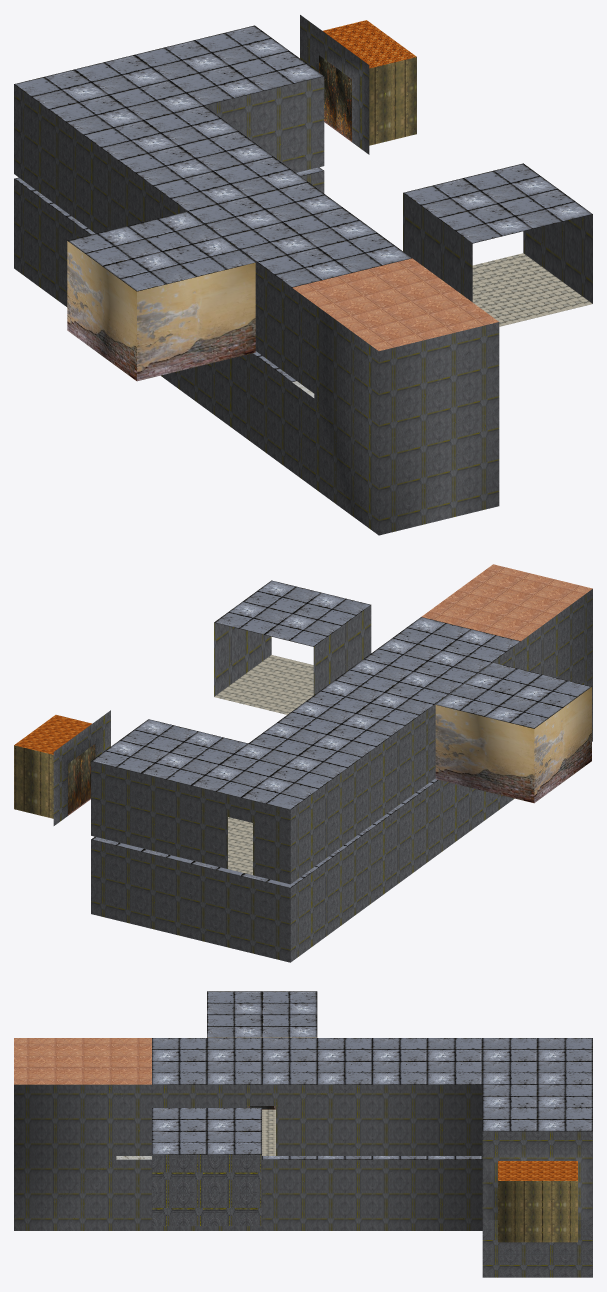
File: LabirintEditor.fbx
The picture shows the model from 3 angles, top to bottom: view 1: azimuth 30°, elevation 25°; view 2: azimuth 150°, elevation 25°; view 3: azimuth 270°, elevation 25°; orthographic projection. The views are drawn at different scales.
Visible parts, largest first — view 1: Wals.6, Up, Wals, Wals.5, Up.3.2, Up.7, Up.3, Up.6, Wals.2, Wals.4, Wals.3, Kor_Pryam.Min (+6 smaller); view 2: Up, Wals.3, Wals, Wals.5, Up.3.2, DopWall2.2, Up.7, DopWall2, Up.3, Up.6, Wals.2, Wals.4 (+10 smaller); view 3: Wals.6, Up, Up.3.2, Wals.2.2, Wals.4, Wals, Wals.3, Wals.2, Up.7, Up.6, Up.3, Lift (+7 smaller).
Boxes of the visible parts, x1,y1,x2,y2 form: Wals.6: (292,288,499,535); Up: (14,25,323,185); Wals: (14,76,324,233); Wals.5: (67,241,255,381); Up.3.2: (153,156,411,287); Up.7: (292,258,498,350); Up.3: (403,163,592,243); Up.6: (67,212,255,291); Wals.2: (403,193,592,303); Wals.4: (161,353,291,471); Wals.3: (14,171,324,306); Kor_Pryam.Min: (472,253,592,326); Up: (91,701,405,809); Wals.3: (91,804,405,962); Wals: (91,726,405,883); Wals.5: (435,687,591,803); Up.3.2: (306,617,520,725); DopWall2.2: (190,864,290,962); Up.7: (421,564,592,641); DopWall2: (190,786,290,884); Up.3: (214,580,370,646); Up.6: (436,662,591,728); Wals.2: (214,605,371,696); Wals.4: (405,780,514,877); Wals.6: (14,1084,151,1230); Up: (372,1038,592,1131); Up.3.2: (152,1038,372,1084); Wals.2.2: (152,1084,372,1155); Wals.4: (152,1159,372,1230); Wals: (372,1084,482,1155); Wals.3: (372,1159,482,1230); Wals.2: (152,1154,261,1225); Up.7: (14,1038,151,1084); Up.6: (207,991,317,1037); Up.3: (152,1108,261,1154); Lift: (498,1181,577,1242).
Size of the model in its own units: 1540 by 585 by 2100.
